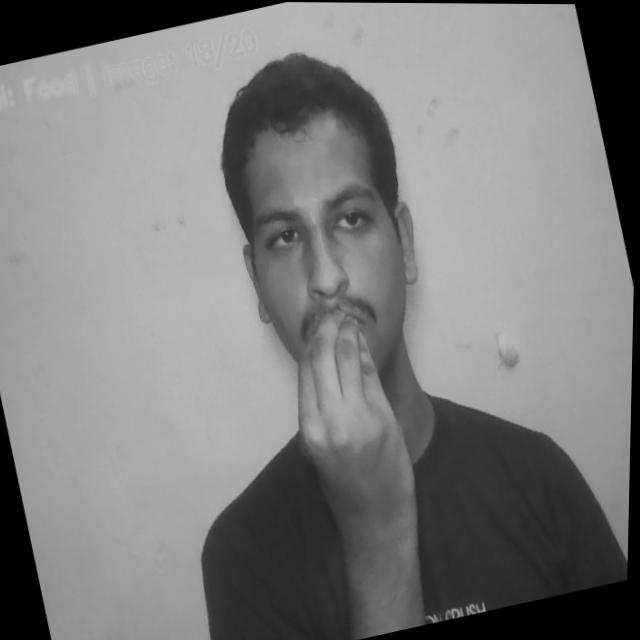Food: (273, 295, 444, 581)
